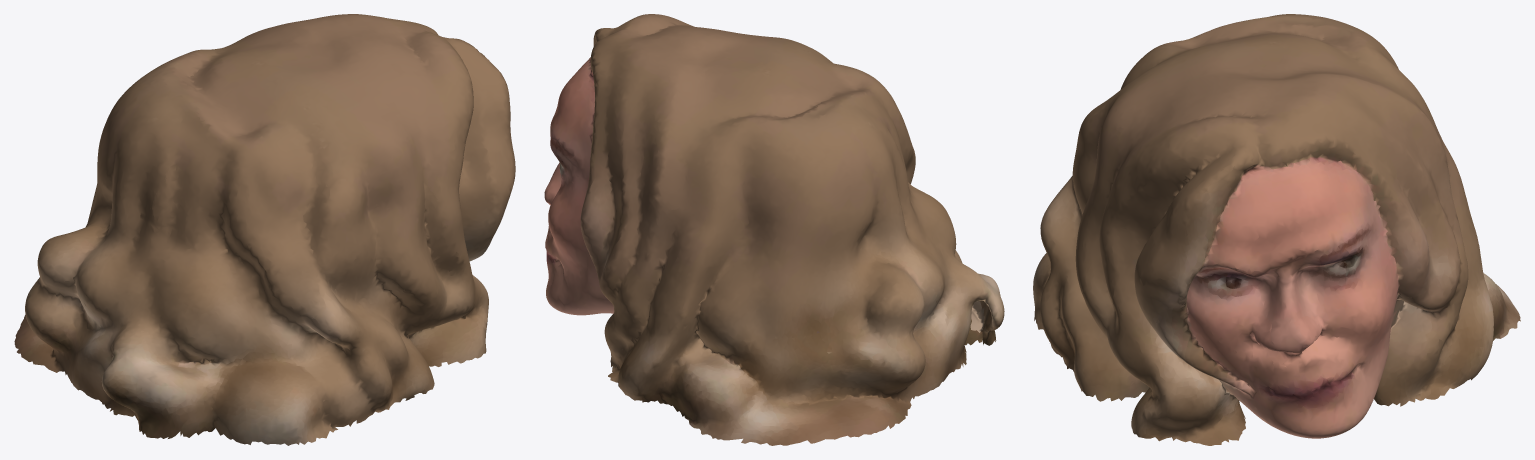
File: meme2_woman.fbx
The picture shows the model from 3 angles, left to right: view 1: azimuth 30°, elevation 25°; view 2: azimuth 150°, elevation 25°; view 3: azimuth 270°, elevation 25°; orthographic projection. The views are drawn at different scales.
Visible parts, largest first — view 1: tripo_node_9ec67730-fa2f-42e4-8a94-1c9c41f04426; view 2: tripo_node_9ec67730-fa2f-42e4-8a94-1c9c41f04426; view 3: tripo_node_9ec67730-fa2f-42e4-8a94-1c9c41f04426.
Part boxes in pixels (x1=…): tripo_node_9ec67730-fa2f-42e4-8a94-1c9c41f04426: x1=14, y1=14, x2=515, y2=445; tripo_node_9ec67730-fa2f-42e4-8a94-1c9c41f04426: x1=544, y1=14, x2=1004, y2=445; tripo_node_9ec67730-fa2f-42e4-8a94-1c9c41f04426: x1=1033, y1=14, x2=1520, y2=445.
Bounding box in the file's own units: 96.15 × 64.13 × 89.46.
1 material, 1 textured.
